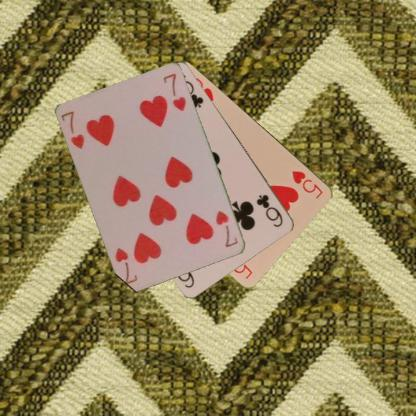5h: (290, 167, 324, 200)
6c: (254, 192, 284, 229)
7h: (213, 207, 240, 249), (59, 108, 86, 150)
